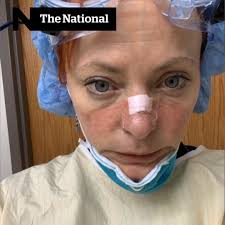mask_weared_incorrect: (76, 58, 196, 187)
